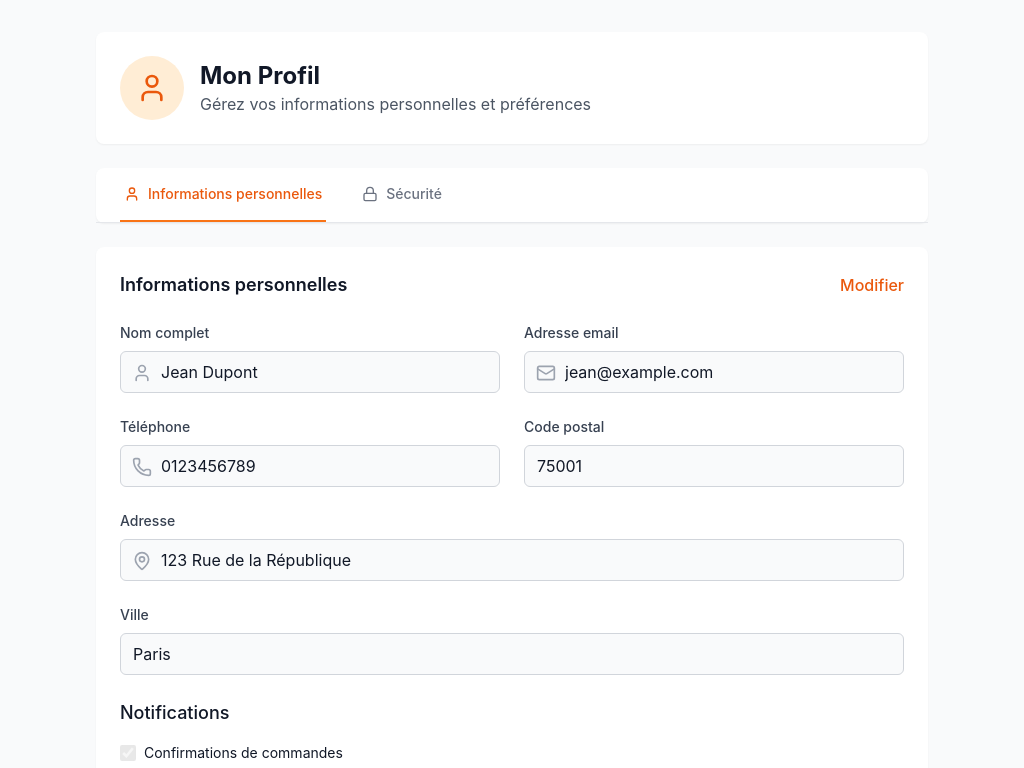
Test case: Profile Component › Personal Information Tab - Edit Mode › should enable editing when Modifier button is clicked
Click the button "Modifier" at (872, 285), box x1=840 y1=273 x2=904 y2=297
(page scrolled)
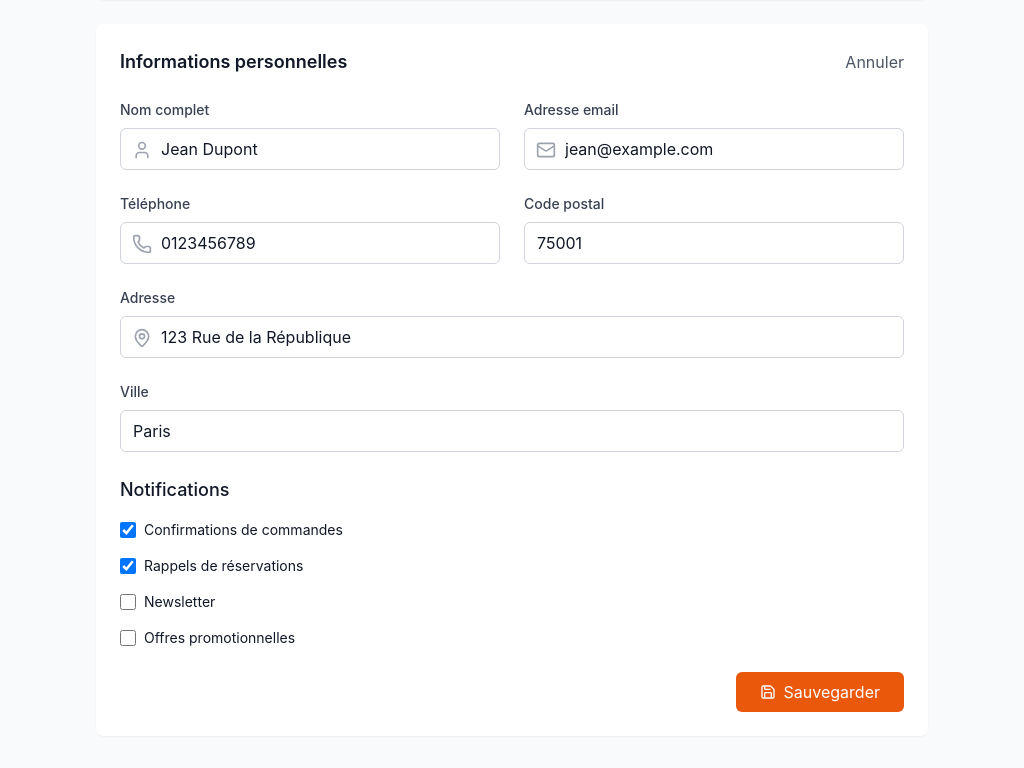
Check: the field showing "Jean Dupont" below "Nom complet" is enabled, box x1=120 y1=128 x2=500 y2=170
Check: the field showing "jean@example.com" below "Adresse email" is enabled, box x1=524 y1=128 x2=904 y2=170
Check: the field showing "0123456789" below "Téléphone" is enabled, box x1=120 y1=222 x2=500 y2=264
